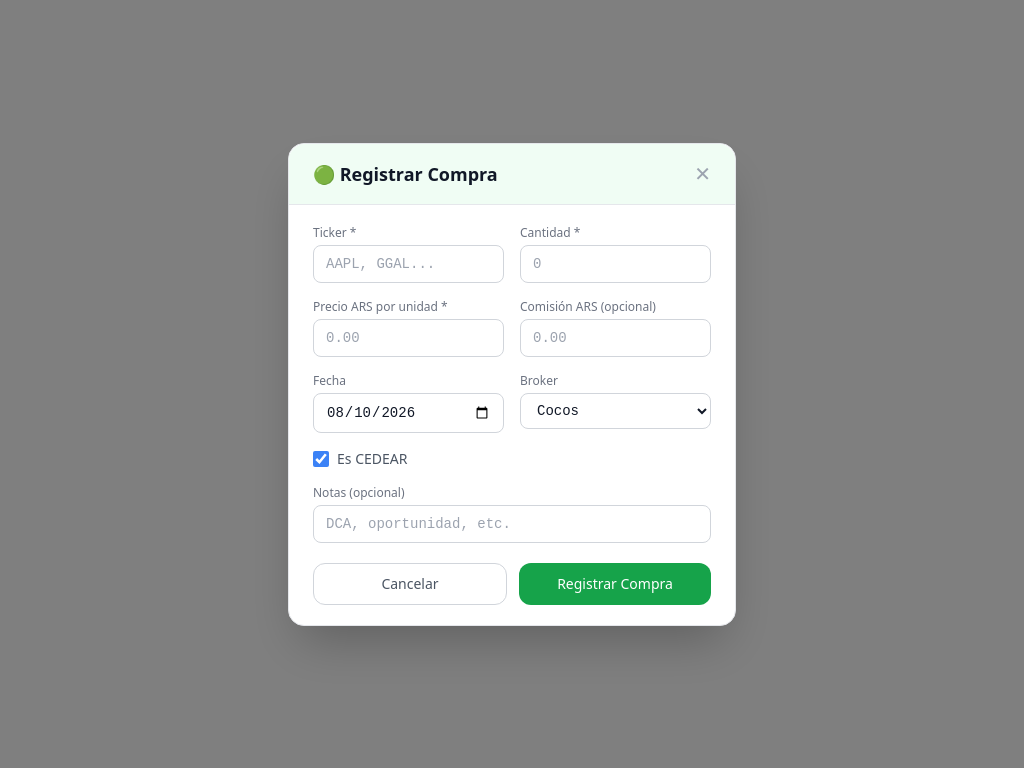
Scenario: ModalOperacion — cálculo del total › en una compra, el total muestra cantidad*precio + comisión
In the field with placeholder "AAPL, GGAL...": (408, 264) 313,244 -> 504,282, type "TSLA"
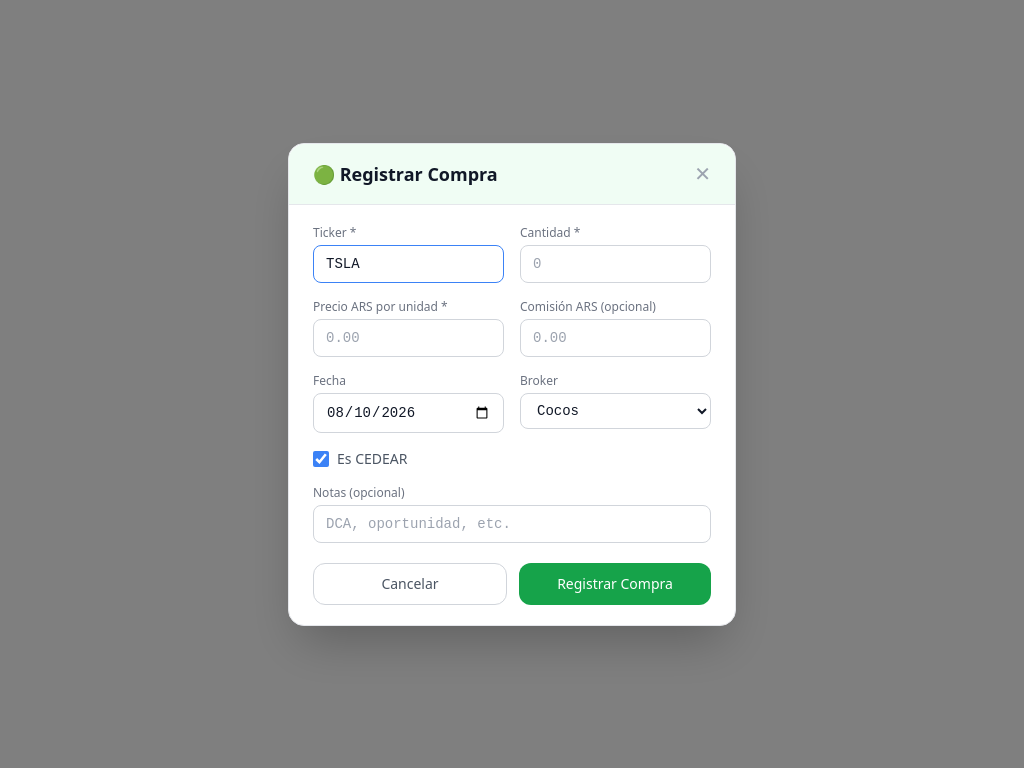
In the number field with placeholder "0": (616, 264) 520,244 -> 711,282, type "10"
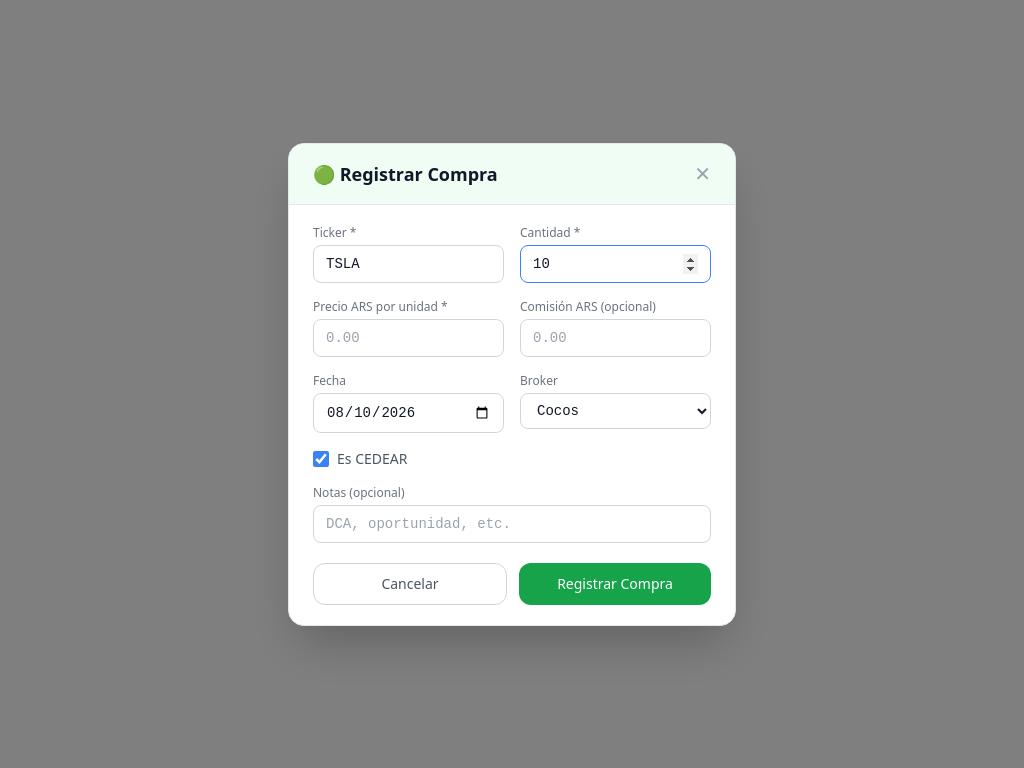
In the number field with placeholder "0.00" below "Precio ARS por unidad *": (408, 338) 313,318 -> 504,356, type "1000"
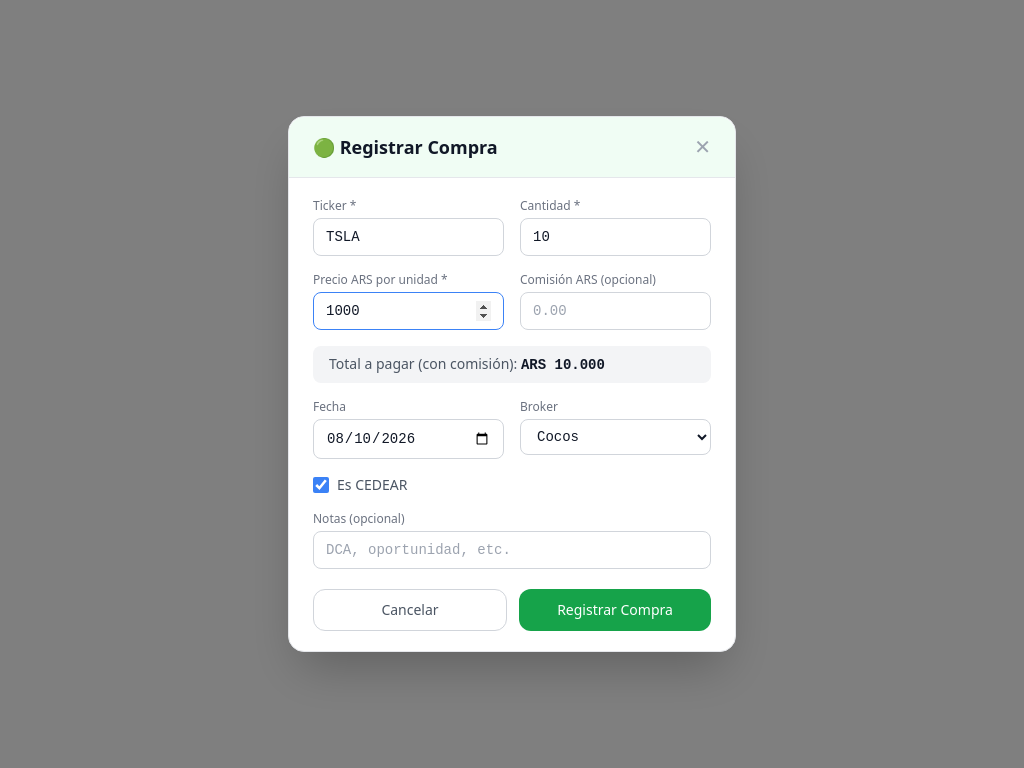
In the number field with placeholder "0.00": (616, 311) 520,292 -> 711,330, type "500"
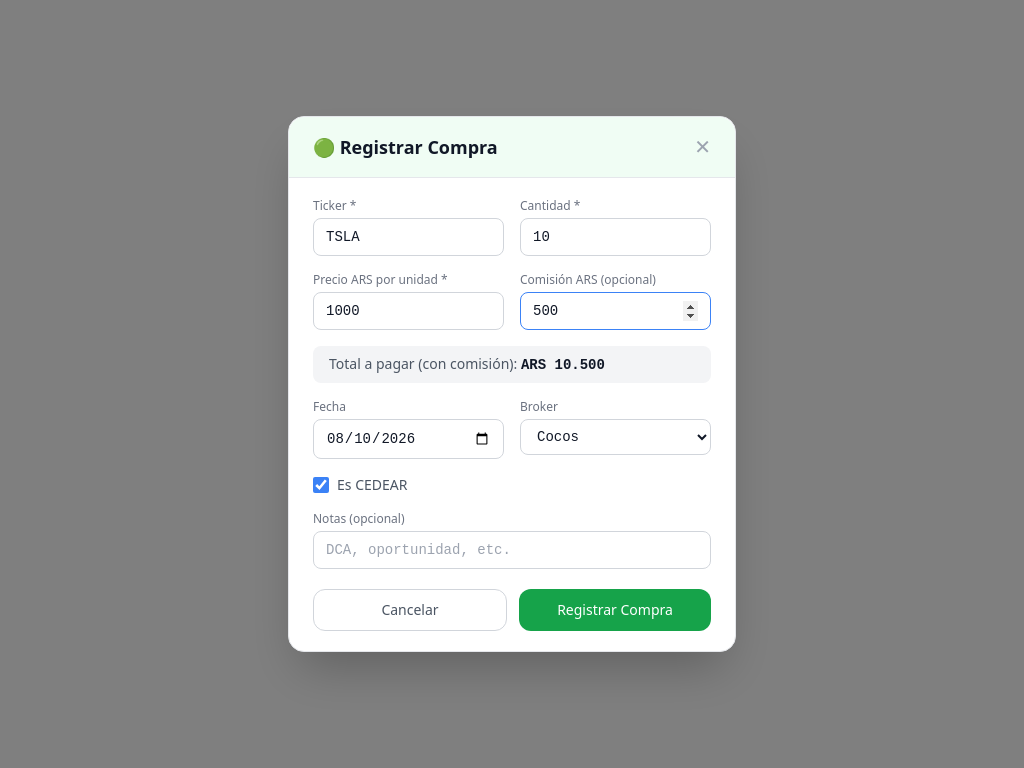
Result: the text "Total a pagar (con comisión): ARS 10.500" is shown at 313,346 -> 711,383
Result: the text "ARS 10.500" is shown at 521,357 -> 605,373
